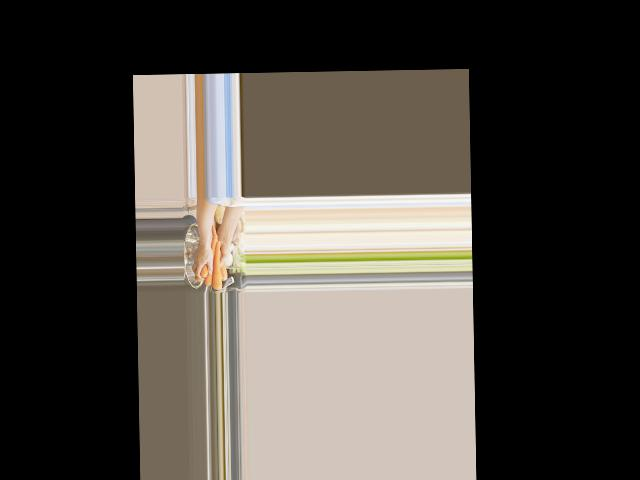carrot: (205, 232, 220, 286)
